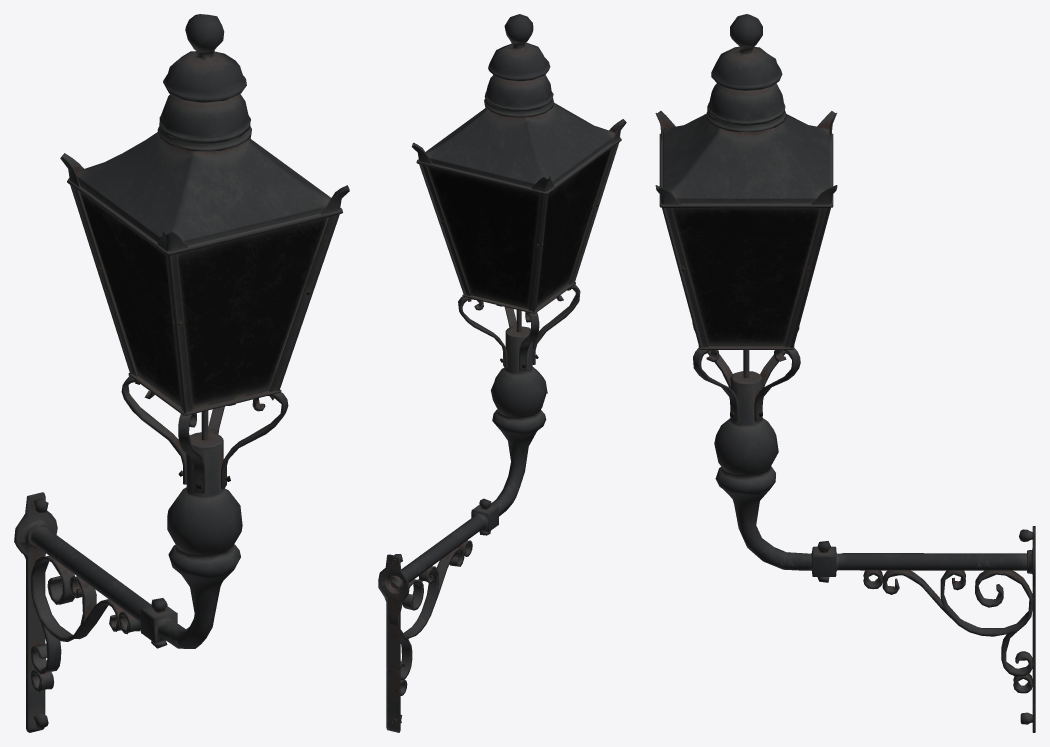
File: street_lamp_02_lod2.glb
3 views of the same model, side by side, from view 1: azimuth 30°, elevation 25°; view 2: azimuth 150°, elevation 25°; view 3: azimuth 270°, elevation 25° (orthographic). The views are drawn at different scales.
Parts seen in each view (by area): view 1: street_lamp_02; view 2: street_lamp_02; view 3: street_lamp_02.
Boxes of the visible parts, <box> form: street_lamp_02: <box>14,14,349,732</box>; street_lamp_02: <box>378,14,626,732</box>; street_lamp_02: <box>655,14,1035,732</box>.
Size of the model in its own units: 0.3865 by 1.67 by 0.8068.
Materials: 3 (3 with a texture image).
